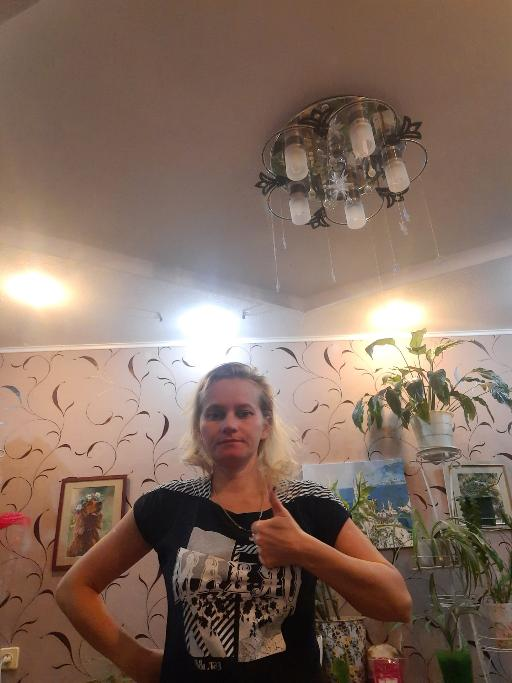like: (249, 483, 306, 570)
